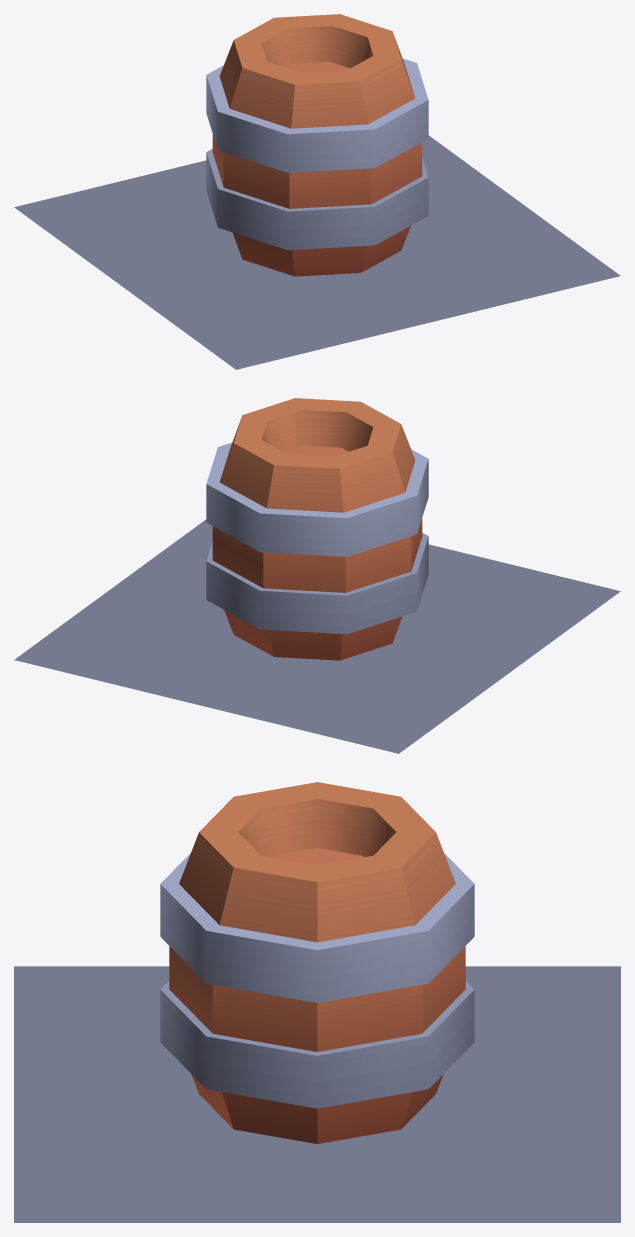
File: floor_barrel.glb
3 views of the same model, one above another, from view 1: azimuth 30°, elevation 25°; view 2: azimuth 150°, elevation 25°; view 3: azimuth 270°, elevation 25° (orthographic). The views are drawn at different scales.
Visible parts, largest first — view 1: floor_barrel; view 2: floor_barrel; view 3: floor_barrel.
Boxes of the visible parts, x1,y1,x2,y2 form: floor_barrel: [14, 14, 620, 369]; floor_barrel: [14, 398, 620, 753]; floor_barrel: [14, 782, 620, 1222].
Size of the model in its own units: 1 by 0.4772 by 1.
Materials: 2 (2 with a texture image).
